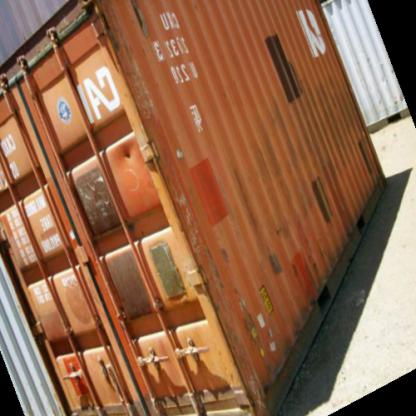Damage: (192, 240, 257, 402), (97, 12, 149, 130), (155, 102, 191, 243), (263, 188, 311, 246), (259, 241, 290, 284)
